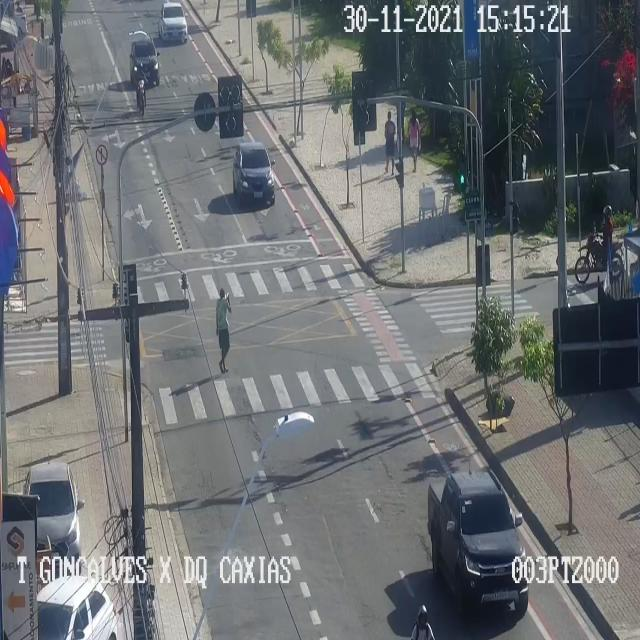Car: (428, 471, 528, 612), (24, 462, 80, 572), (36, 575, 116, 639), (232, 142, 274, 202), (129, 36, 159, 84), (159, 2, 187, 40)
Motorcycle: (574, 205, 622, 283), (408, 602, 442, 640), (134, 60, 148, 114)
